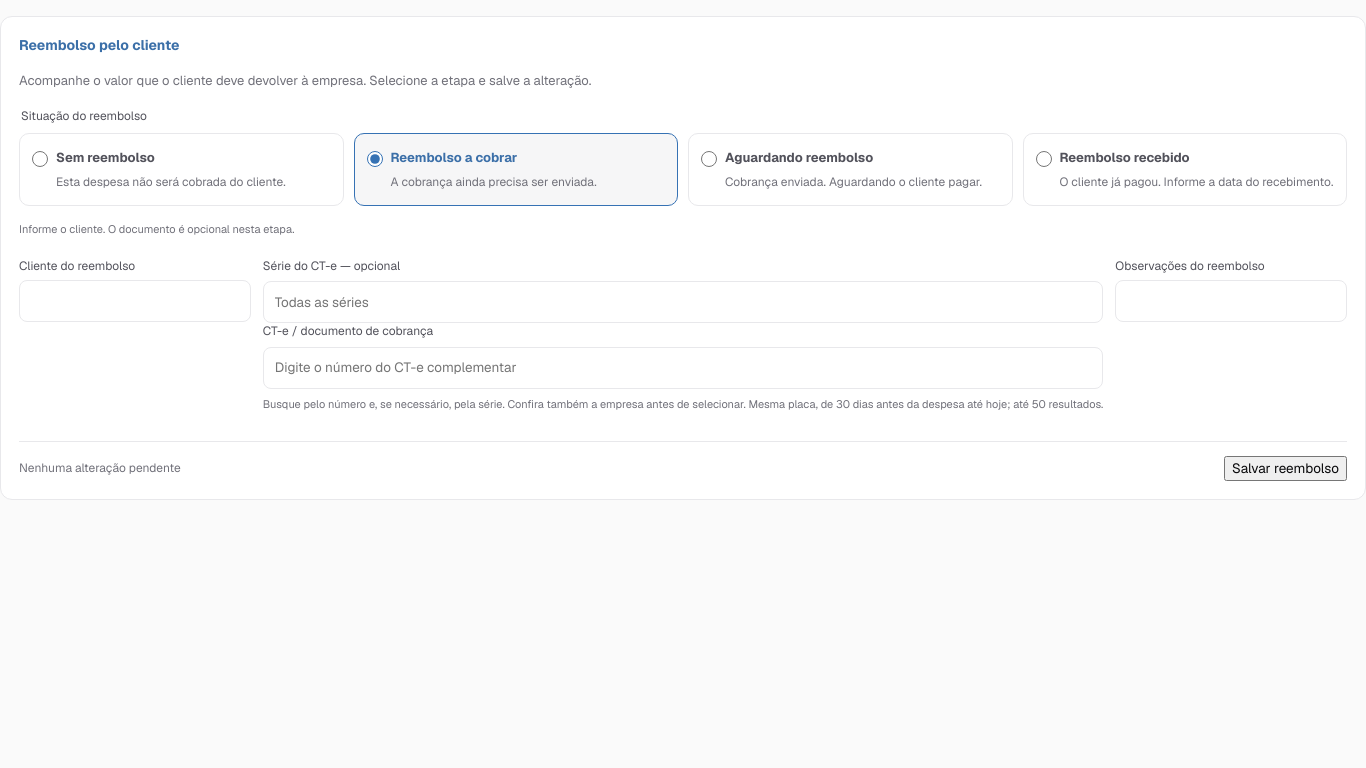
Test: permite repetir a consulta ao ERP após falha
Focus the dropdown at (683, 368), box [263,347,1103,389]
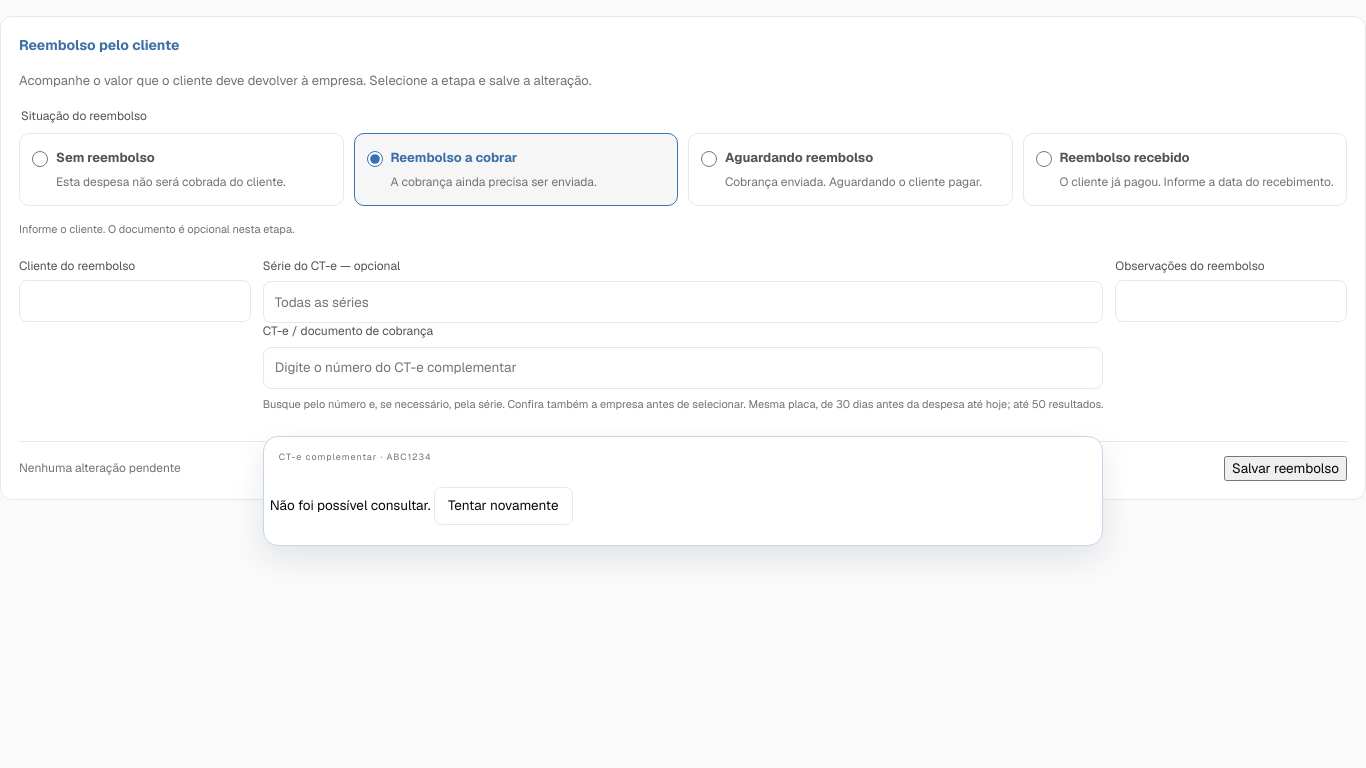
Click the button "Tentar novamente" at (503, 506), box [434,487,572,525]
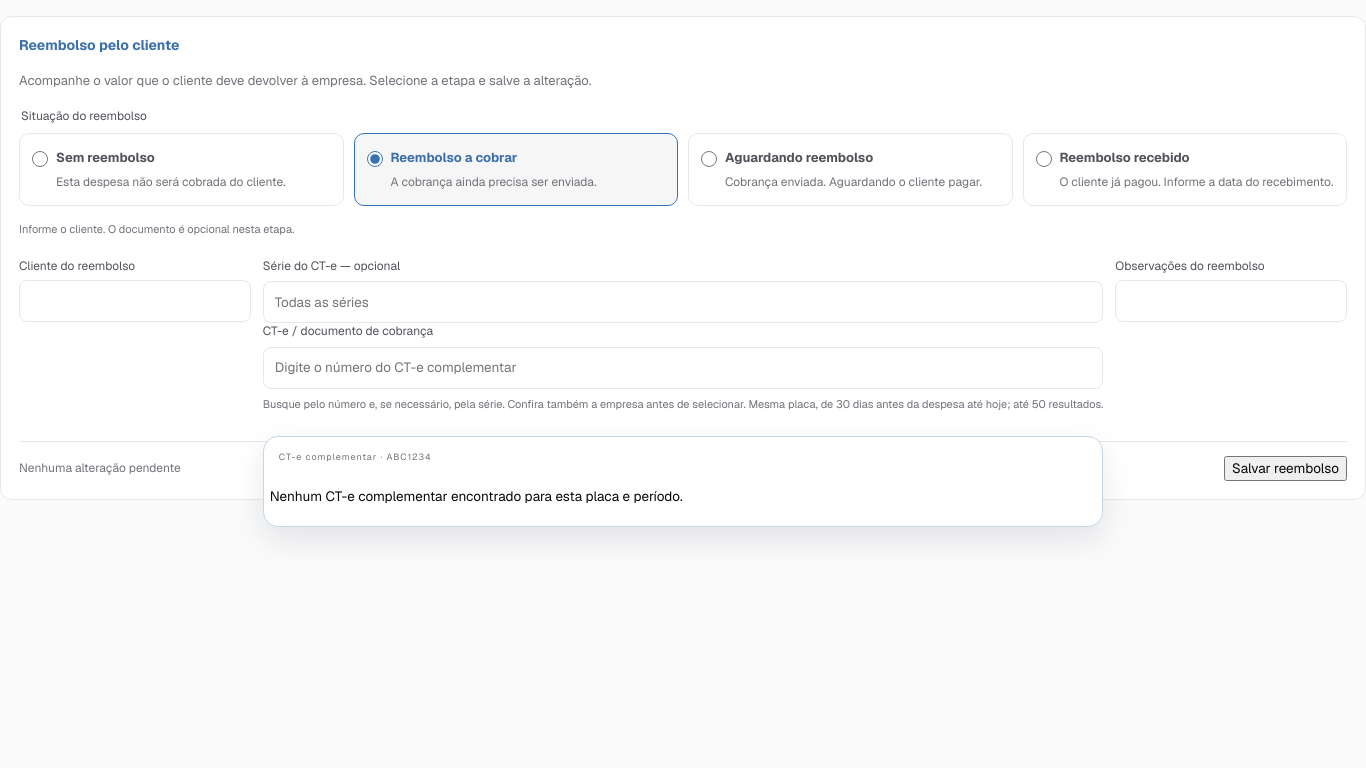
Now the text "Nenhum CT-e complementar encontrado para esta placa e período." is shown, box [270,487,683,505]
